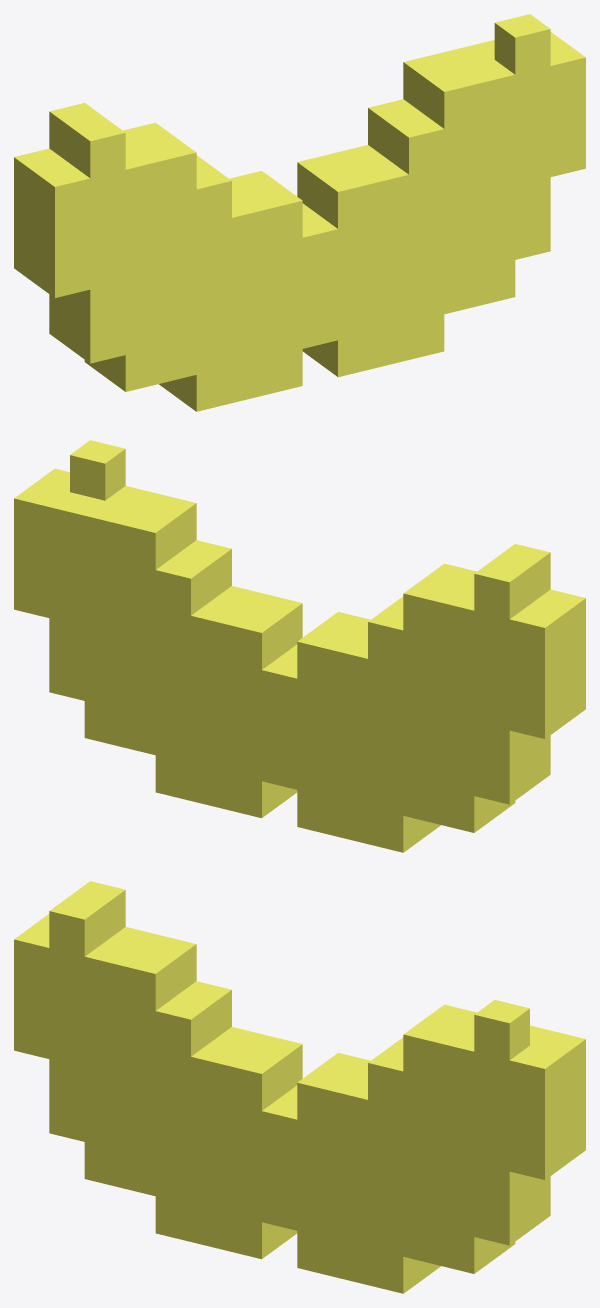
The model's file is pacmand2.fbx.
3 renders of one model, top to bottom at view 1: azimuth 30°, elevation 25°; view 2: azimuth 150°, elevation 25°; view 3: azimuth 330°, elevation 25°, orthographic.
Parts seen in each view (by area): view 1: pacmand2; view 2: pacmand2; view 3: pacmand2.
Part boxes in pixels (box(x1,y1,x2,y2)): pacmand2: box(14, 14, 585, 411); pacmand2: box(14, 440, 585, 852); pacmand2: box(14, 881, 585, 1293).
Bounding box in the file's own units: 150 × 80 × 20.
